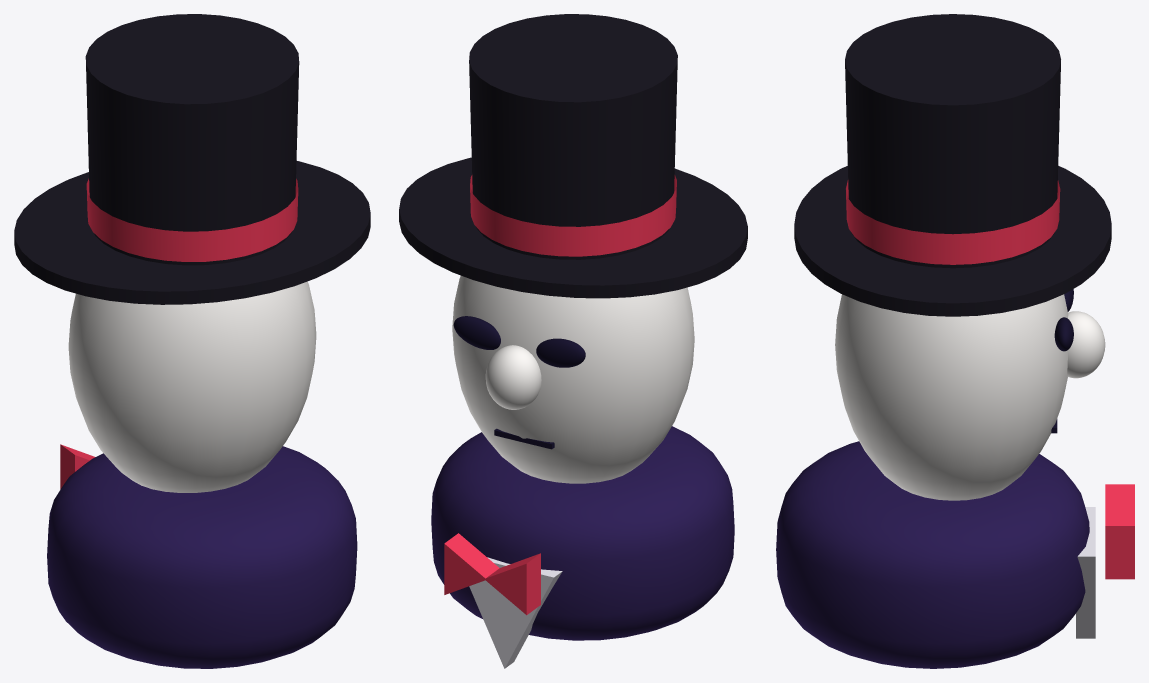
File: Boss5_MrMute.obj
3 views of the same model, side by side, from view 1: azimuth 30°, elevation 25°; view 2: azimuth 150°, elevation 25°; view 3: azimuth 270°, elevation 25° (orthographic). The views are drawn at different scales.
Visible parts, largest first — view 1: Hat, Collar, Mask, Hat_Band, BowTie; view 2: Hat, Collar, Mask, Hat_Band, BowTie, Shirt, Face_Dark; view 3: Hat, Collar, Mask, Hat_Band, BowTie, Shirt, Face_Dark.
Part boxes in pixels (x1,y1,x2,y2): Hat: [14, 14, 370, 304]; Collar: [47, 446, 357, 668]; Mask: [68, 281, 316, 492]; Hat_Band: [86, 178, 298, 261]; BowTie: [60, 444, 95, 489]; Hat: [399, 14, 747, 298]; Collar: [431, 426, 734, 640]; Mask: [452, 275, 694, 483]; Hat_Band: [470, 175, 676, 256]; BowTie: [444, 533, 540, 615]; Shirt: [469, 557, 562, 668]; Face_Dark: [453, 316, 585, 449]; Hat: [794, 14, 1111, 316]; Collar: [776, 441, 1089, 668]; Mask: [835, 294, 1105, 500]; Hat_Band: [846, 180, 1060, 264]; BowTie: [1105, 484, 1134, 579]; Shirt: [1076, 507, 1095, 638]; Face_Dark: [1051, 289, 1073, 433].
Size of the model in its own units: 0.38 by 0.65 by 0.365.
